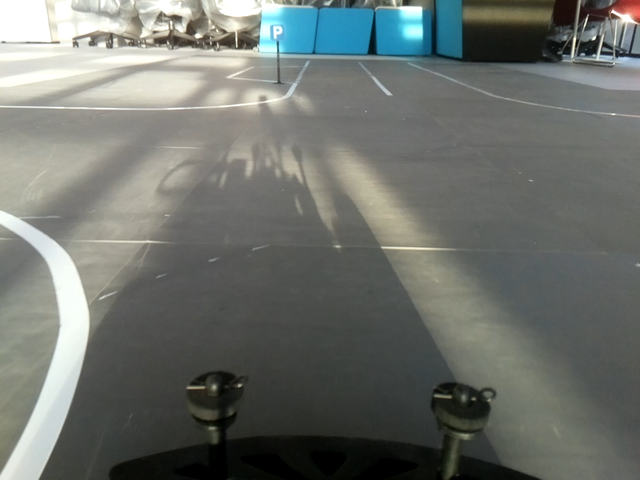parking: (268, 23, 285, 40)
